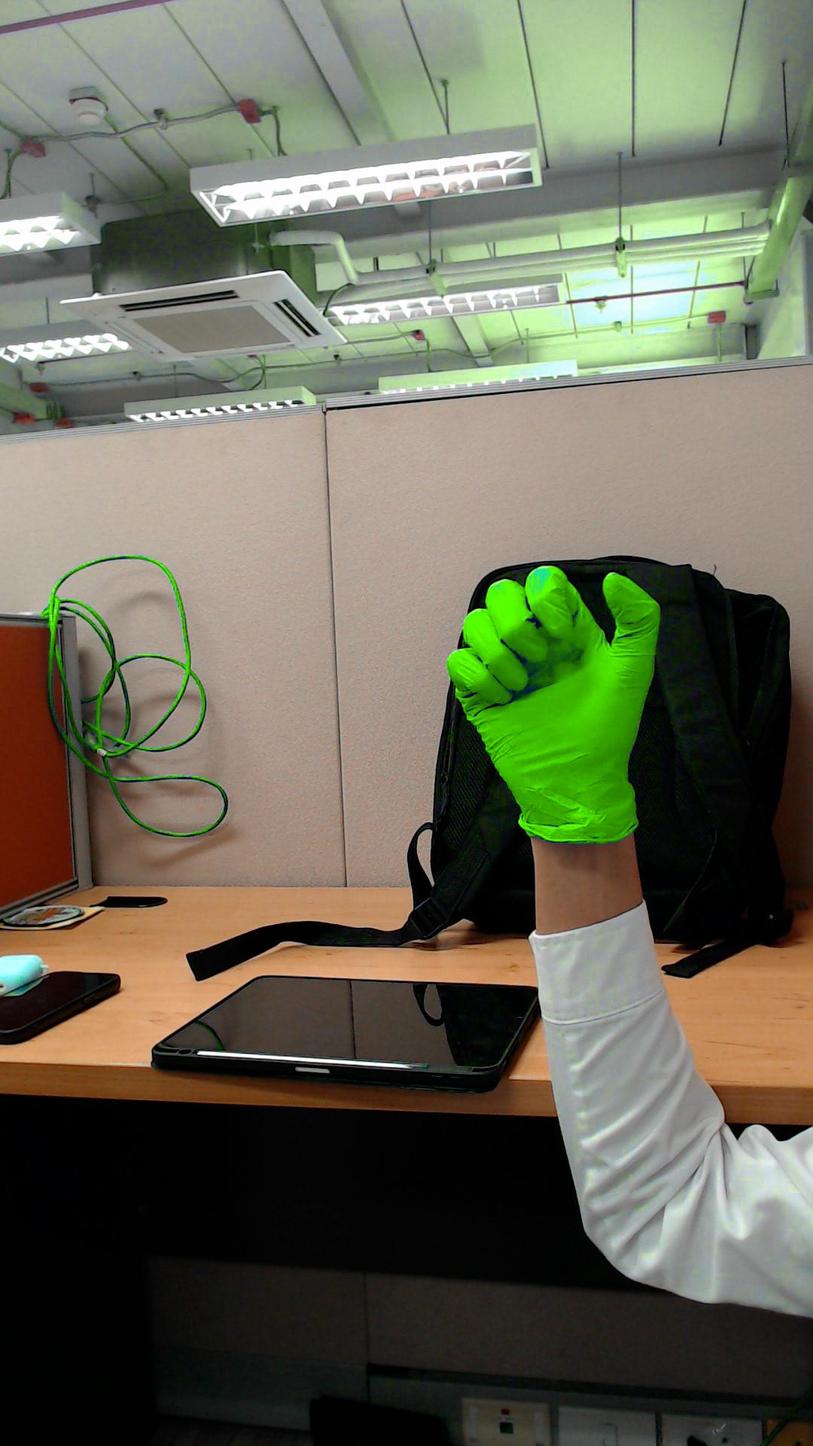gloves: (438, 557, 671, 783)
